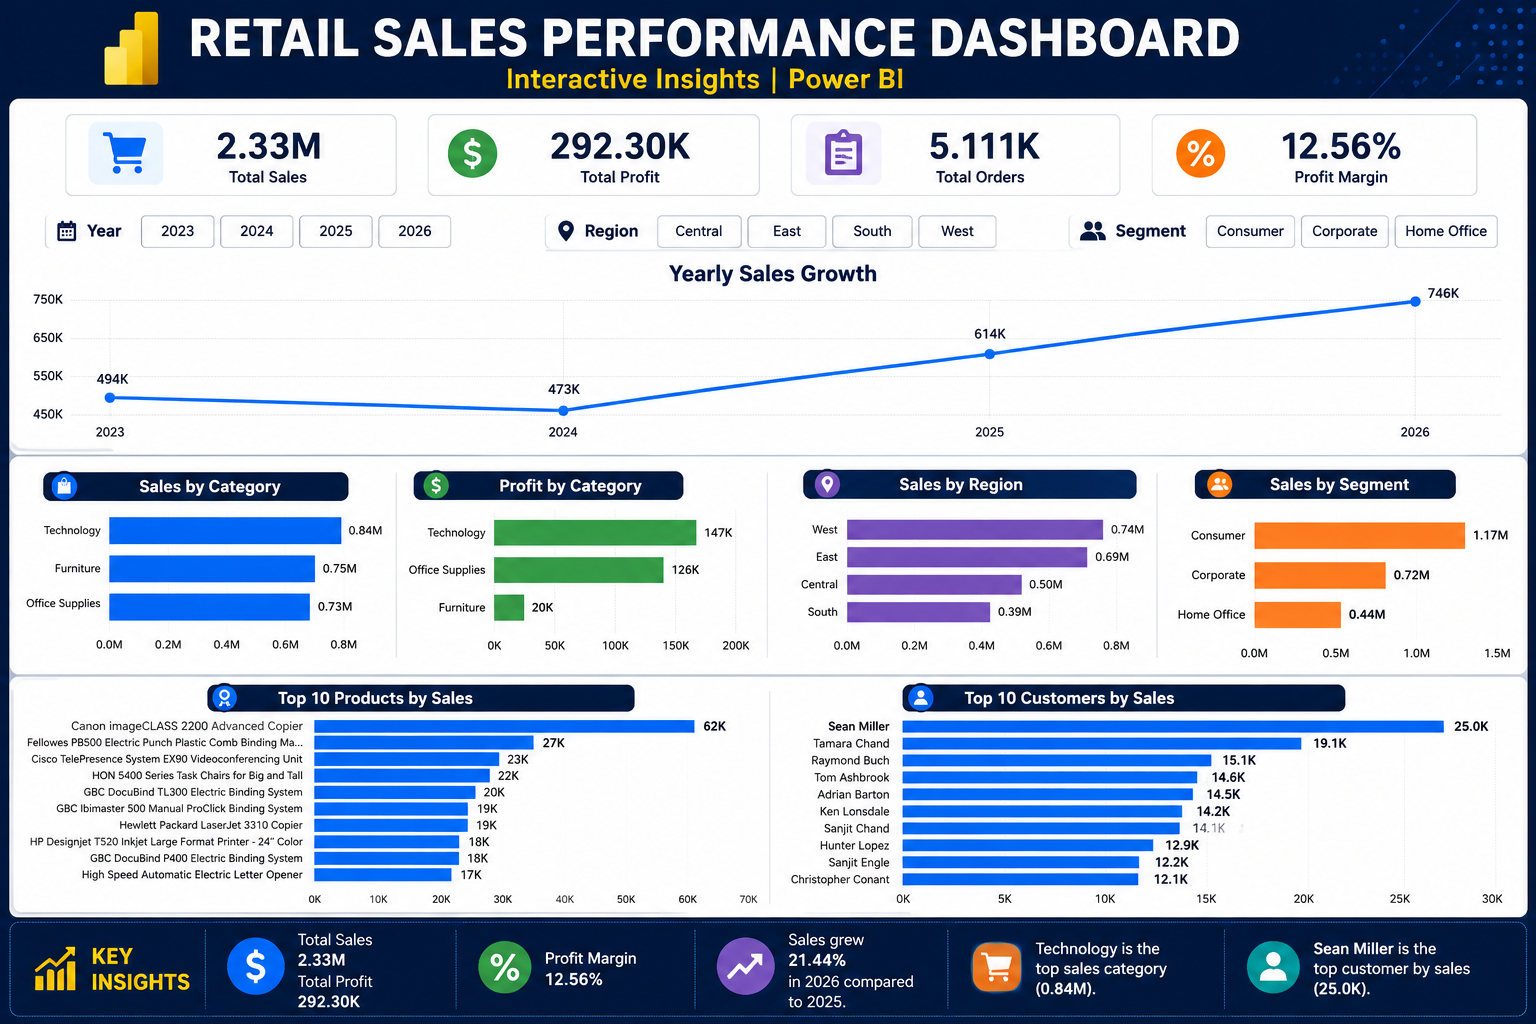

The dashboard page shown, as its layout file describes it:
{"tool":"powerbi","page":{"name":"Executive Overview","canvas":[1280,2500],"ordinal":0},"visuals":[{"type":"cardVisual","fields":{"Data":["Sum(Orders.Sales)"]},"box":[0,98.3,355,280],"z":0},{"type":"cardVisual","fields":{"Data":["Sum(Orders.Profit)"]},"box":[355,98.3,316.7,280],"z":1000},{"type":"cardVisual","fields":{"Data":["Count(Orders.Order ID)"]},"box":[660,98.3,316.7,280],"z":2000},{"type":"cardVisual","fields":{"Data":["Orders.Profit Margin"]},"box":[970,98.3,310,280],"z":3000},{"type":"lineChart","title":"Yearly Sales Growth","fields":{"Category":["Orders.Order Date.Variation.Date Hierarchy.Year"],"Y":["Sum(Orders.Sales)"]},"box":[0,533.3,1280,418.3],"z":4000},{"type":"clusteredBarChart","title":"Sales by Category","fields":{"Category":["Orders.Category"],"Y":["Sum(Orders.Sales)"]},"box":[0,1050,640,376.7],"z":5000},{"type":"clusteredBarChart","title":"Profit by Category","fields":{"Category":["Orders.Category"],"Y":["Sum(Orders.Profit)"]},"box":[683.3,1050,596.7,376.7],"z":6000},{"type":"clusteredBarChart","title":"Sales by Region","fields":{"Category":["Orders.Region"],"Y":["Sum(Orders.Sales)"]},"box":[0,1470,640,305],"z":7000},{"type":"clusteredBarChart","title":"Sales by Segment","fields":{"Category":["Orders.Segment"],"Y":["Sum(Orders.Sales)"]},"box":[683.3,1471.7,596.7,303.3],"z":8000},{"type":"clusteredBarChart","title":"Top 10 Products by Sales","fields":{"Category":["Orders.Product Name"],"Y":["Sum(Orders.Sales)"]},"box":[0,1805,1280,305],"z":9000},{"type":"clusteredBarChart","title":"Top 10 Customers by Sales","fields":{"Y":["Sum(Orders.Sales)"],"Category":["Orders.Customer Name"]},"box":[0,2148.3,1280,318.3],"z":10000},{"type":"advancedSlicerVisual","fields":{"Values":["Orders.Region"]},"box":[428.3,381.7,423.3,90],"z":11000},{"type":"advancedSlicerVisual","fields":{"Values":["Orders.Segment"]},"box":[901.7,381.7,378.3,88.3],"z":12000},{"type":"textbox","box":[0,0,1280,98.6],"z":13000},{"type":"advancedSlicerVisual","fields":{"Values":["Orders.Order Date.Variation.Date Hierarchy.Year"]},"box":[0,378.3,385,93.3],"z":14000}]}

Visuals, with their boxes on the page's 1280x2500 design canvas (x1, y1, x2, y2). These are canvas units, not pixel positions in the 1536x1024 screenshot, which may show the page scaled, cropped or inside an application window:
cardVisual - Sum(Orders.Sales): [x1=0, y1=98, x2=355, y2=378]
cardVisual - Sum(Orders.Profit): [x1=355, y1=98, x2=672, y2=378]
cardVisual - Count(Orders.Order ID): [x1=660, y1=98, x2=977, y2=378]
cardVisual - Orders.Profit Margin: [x1=970, y1=98, x2=1280, y2=378]
"Yearly Sales Growth" lineChart: [x1=0, y1=533, x2=1280, y2=952]
"Sales by Category" clusteredBarChart: [x1=0, y1=1050, x2=640, y2=1427]
"Profit by Category" clusteredBarChart: [x1=683, y1=1050, x2=1280, y2=1427]
"Sales by Region" clusteredBarChart: [x1=0, y1=1470, x2=640, y2=1775]
"Sales by Segment" clusteredBarChart: [x1=683, y1=1472, x2=1280, y2=1775]
"Top 10 Products by Sales" clusteredBarChart: [x1=0, y1=1805, x2=1280, y2=2110]
"Top 10 Customers by Sales" clusteredBarChart: [x1=0, y1=2148, x2=1280, y2=2467]
advancedSlicerVisual - Orders.Region: [x1=428, y1=382, x2=852, y2=472]
advancedSlicerVisual - Orders.Segment: [x1=902, y1=382, x2=1280, y2=470]
textbox: [x1=0, y1=0, x2=1280, y2=99]
advancedSlicerVisual - Orders.Order Date.Variation.Date Hierarchy.Year: [x1=0, y1=378, x2=385, y2=472]
